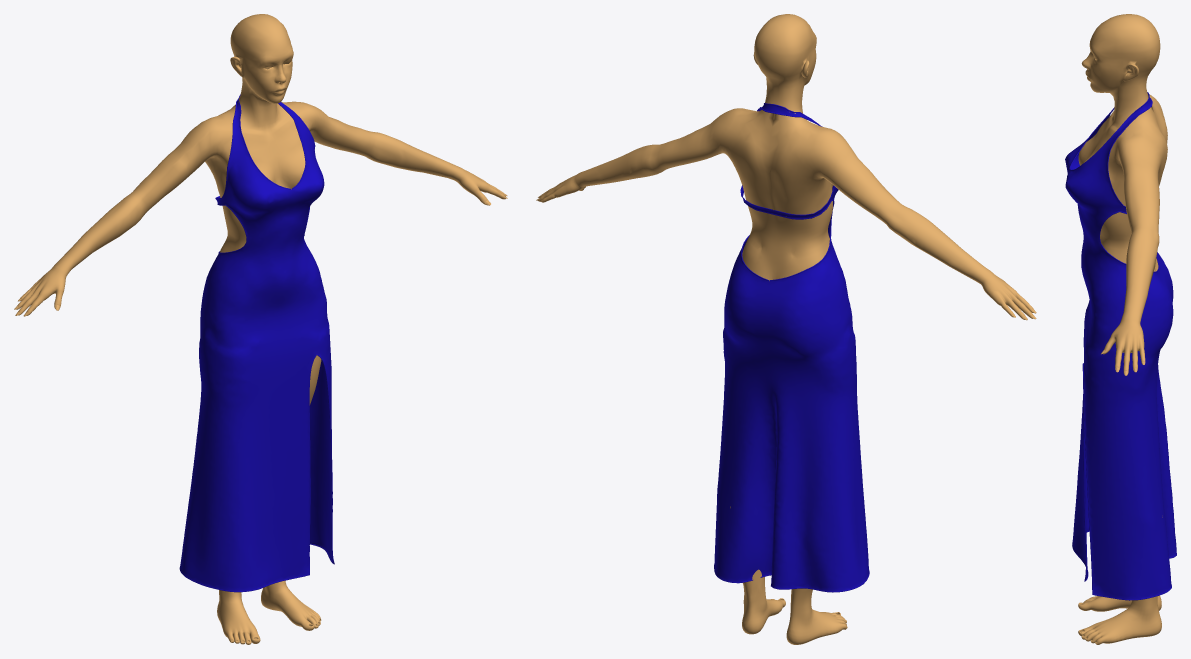
The model's file is dress9.glb.
The picture shows the model from 3 angles, left to right: view 1: azimuth 30°, elevation 25°; view 2: azimuth 150°, elevation 25°; view 3: azimuth 270°, elevation 25°; orthographic projection.
Visible parts, largest first — view 1: EveningDress, Body; view 2: EveningDress, Body; view 3: EveningDress, Body.
Boxes of the visible parts, x1,y1,x2,y2 form: EveningDress: (179,94,334,592); Body: (16,14,506,644); EveningDress: (714,103,869,592); Body: (538,14,1033,644); EveningDress: (1065,92,1176,600); Body: (1078,14,1167,644).
Size of the model in its own units: 1.58 by 1.85 by 0.3089.
